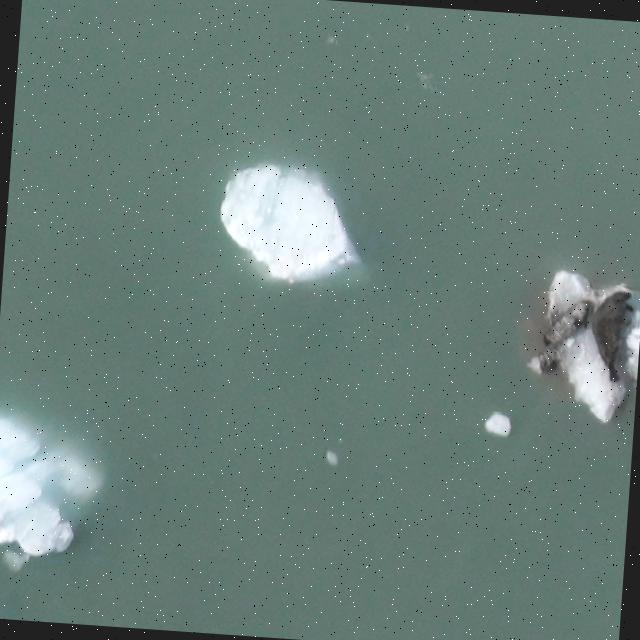seal: (532, 290, 601, 379), (582, 283, 639, 388)
